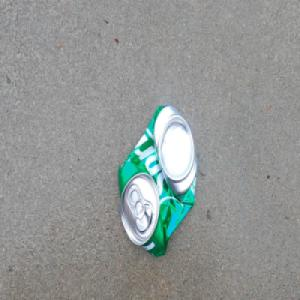SodaCan: (116, 101, 199, 258)
